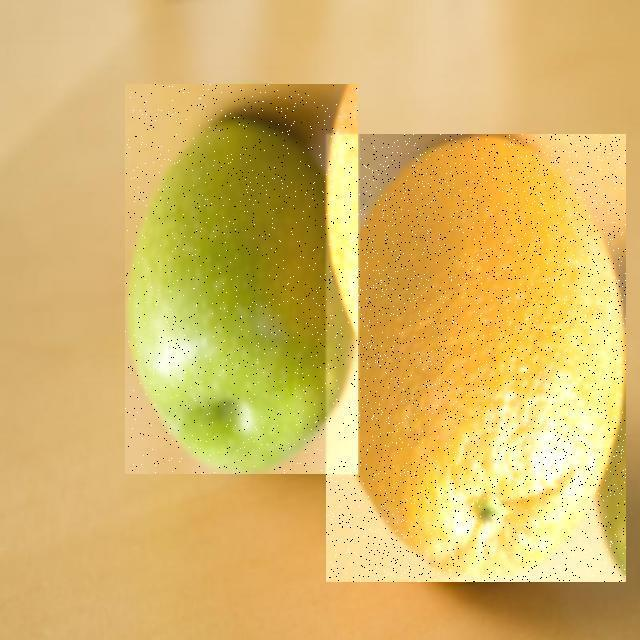Apple: (125, 84, 358, 474)
Orange: (326, 134, 626, 582)
